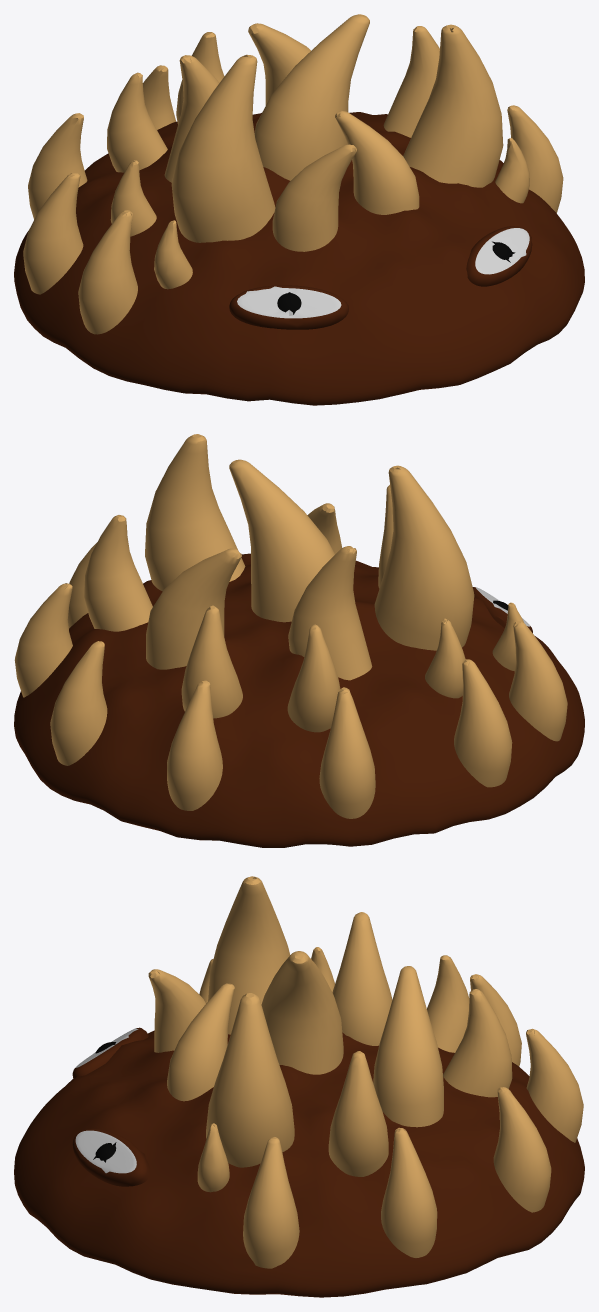
File: Luker.obj
The picture shows the model from 3 angles, top to bottom: view 1: azimuth 30°, elevation 25°; view 2: azimuth 150°, elevation 25°; view 3: azimuth 270°, elevation 25°; orthographic projection.
Visible parts, largest first — view 1: samor_2486_09; view 2: samor_2486_09; view 3: samor_2486_09.
Boxes of the visible parts, x1,y1,x2,y2 form: samor_2486_09: [14, 14, 584, 405]; samor_2486_09: [14, 434, 584, 847]; samor_2486_09: [14, 876, 584, 1297].
Bounding box in the file's own units: 248 × 129 × 248.
